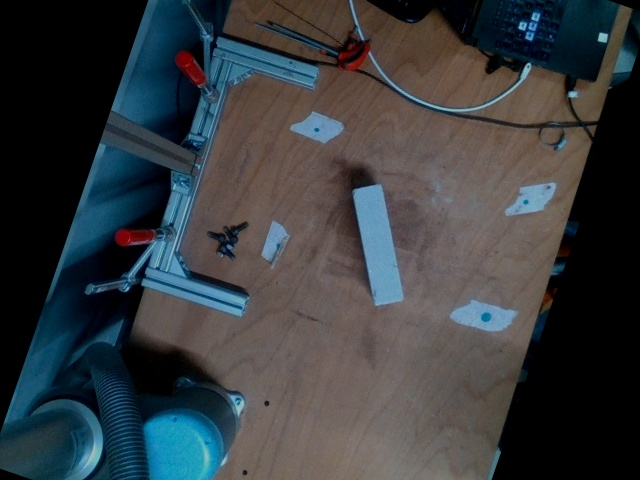brick-side: (351, 183, 405, 308)
